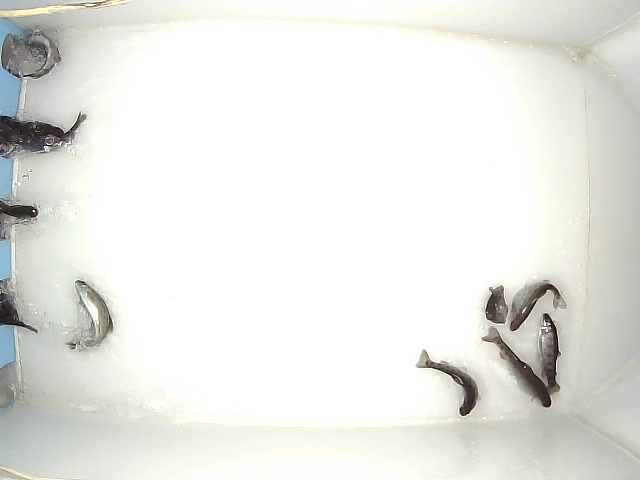fish: (480, 325, 553, 409), (414, 348, 480, 418), (63, 279, 115, 354), (509, 280, 567, 333), (536, 313, 562, 396), (19, 33, 61, 79), (484, 284, 509, 324)
